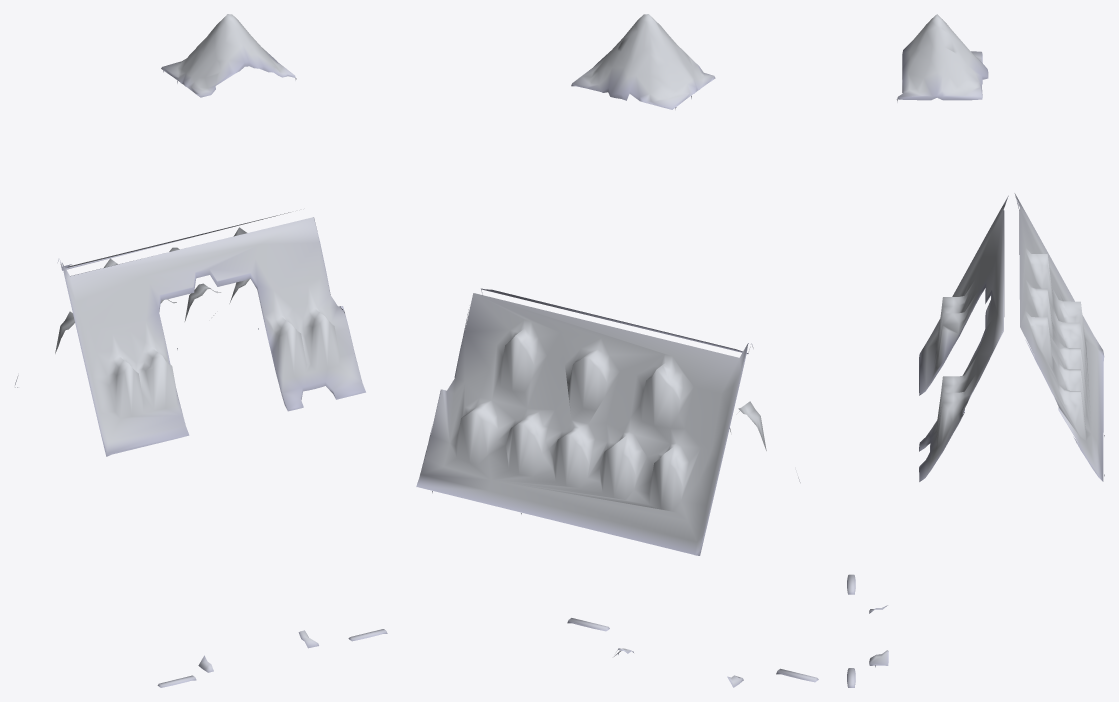
The model's file is category.governance.xl.snow.glb.
3 renders of one model, left to right at view 1: azimuth 30°, elevation 25°; view 2: azimuth 150°, elevation 25°; view 3: azimuth 270°, elevation 25°, orthographic. The views are drawn at different scales.
Parts seen in each view (by area): view 1: snow; view 2: snow; view 3: snow.
Part boxes in pixels (left/top/right/bottom): snow: left=15, top=14, right=387, bottom=687; snow: left=416, top=14, right=818, bottom=687; snow: left=847, top=14, right=1104, bottom=687.
Bounding box in the file's own units: 12 × 27.5 × 10.26.
